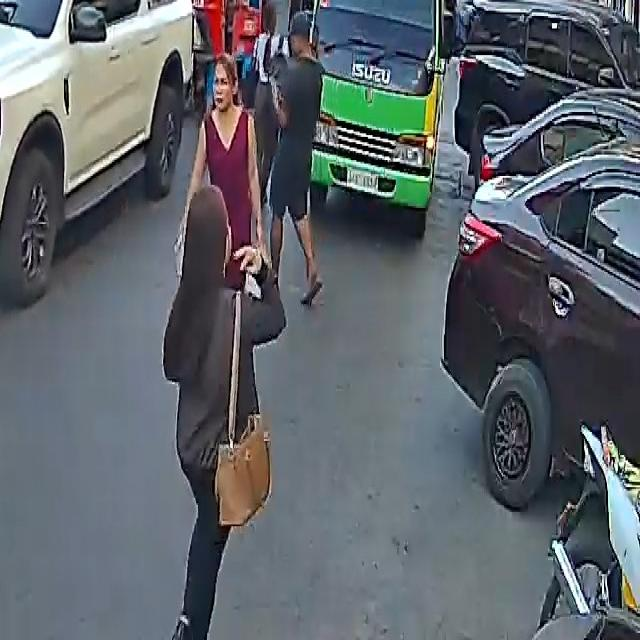car: (443, 65, 640, 527), (0, 0, 206, 304), (448, 0, 640, 183)
